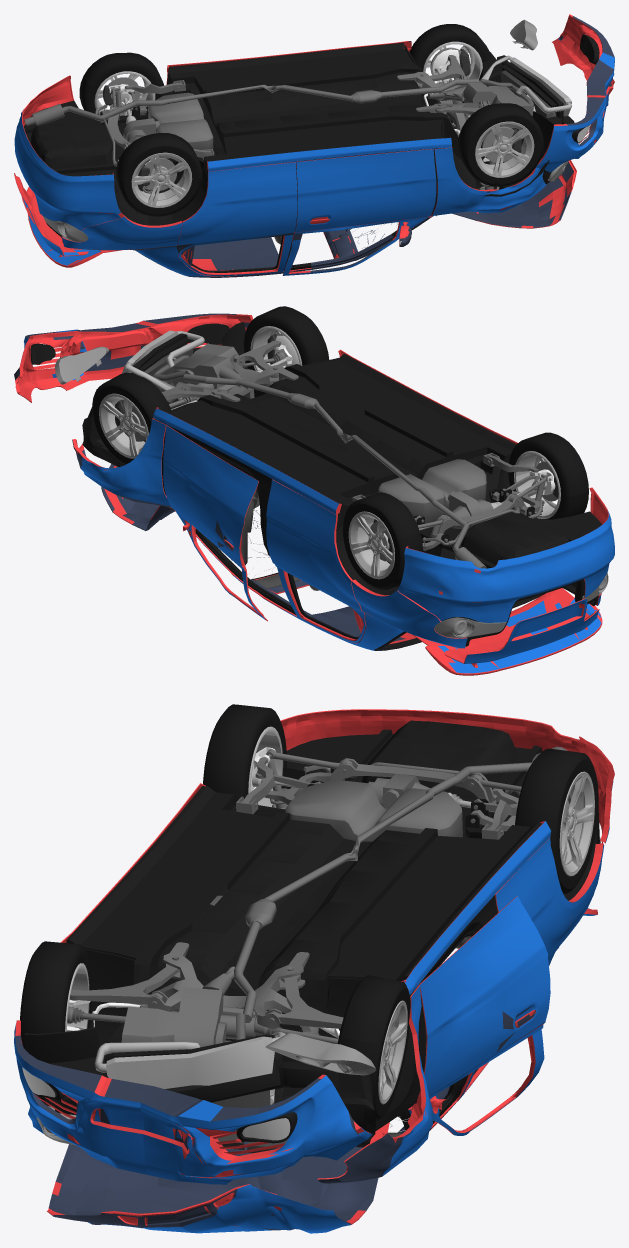
Rendered from wreckedCar_2_Col.fbx.
3 views of the same model, one above another, from view 1: azimuth 30°, elevation 25°; view 2: azimuth 150°, elevation 25°; view 3: azimuth 270°, elevation 25° (orthographic). The views are drawn at different scales.
Parts seen in each view (by area): view 1: Wrecked_car2; view 2: Wrecked_car2; view 3: Wrecked_car2.
Boxes of the visible parts, x1=… form: Wrecked_car2: x1=14, y1=14, x2=614, y2=277; Wrecked_car2: x1=14, y1=306, x2=614, y2=675; Wrecked_car2: x1=14, y1=704, x2=614, y2=1233.
Bounding box in the file's own units: 185 × 54.08 × 105.
